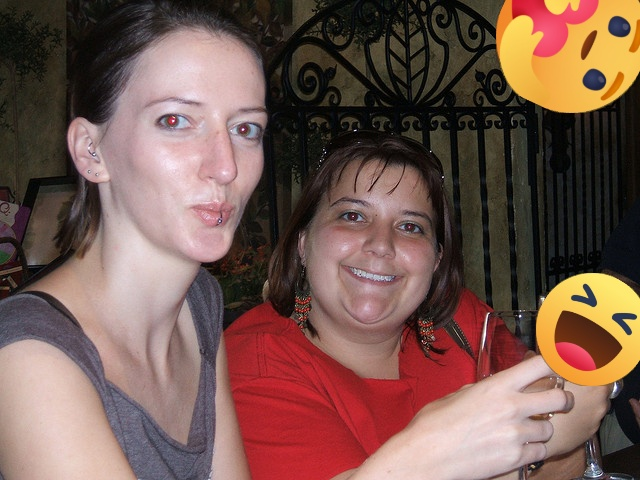care: (496, 0, 640, 113)
haha: (536, 273, 640, 386)
